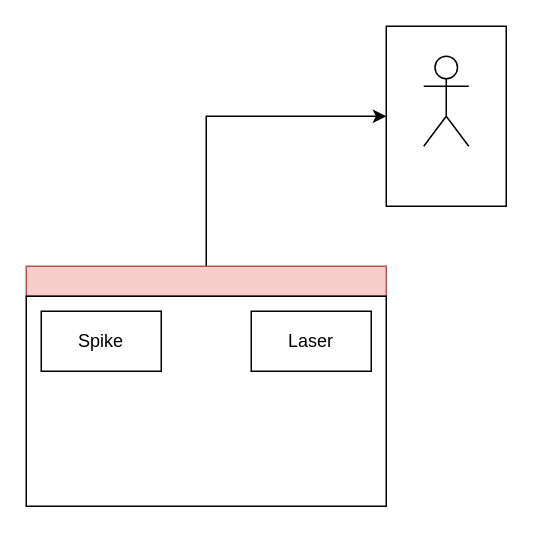
Some shapes in this 533 by 533 pixel diagram are drawn without their labels. Each missing label, with the box of its shape:
Damage Interrupt: (25, 265, 386, 296)
Player Character: (422, 55, 469, 146)
